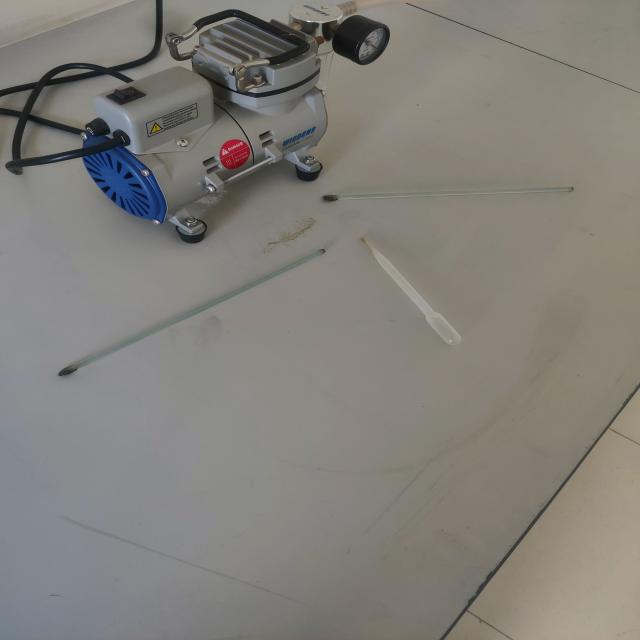Glass_Rod: (24, 236, 340, 397), (303, 171, 596, 220)
Pipette: (350, 223, 487, 371)
